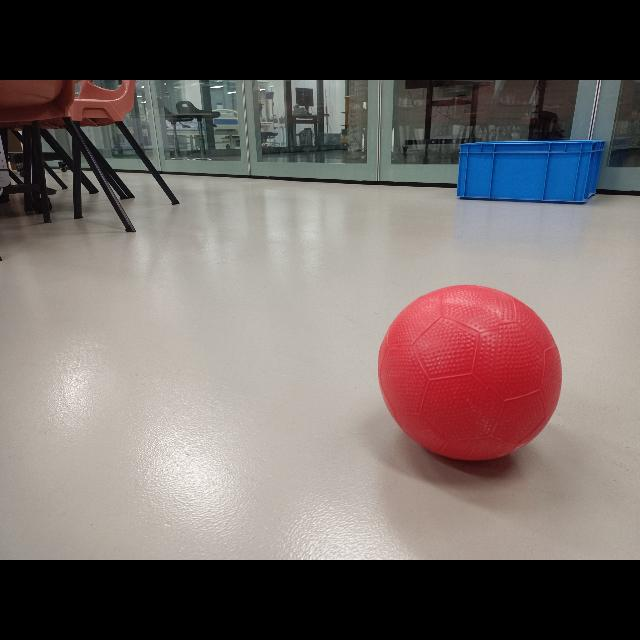R: (376, 285, 562, 467)
